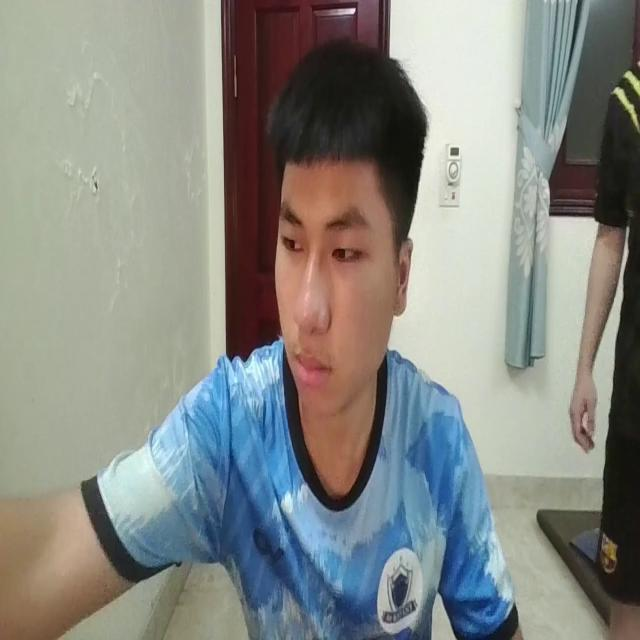extra_person: (566, 22, 640, 640)
student: (3, 37, 521, 640)
